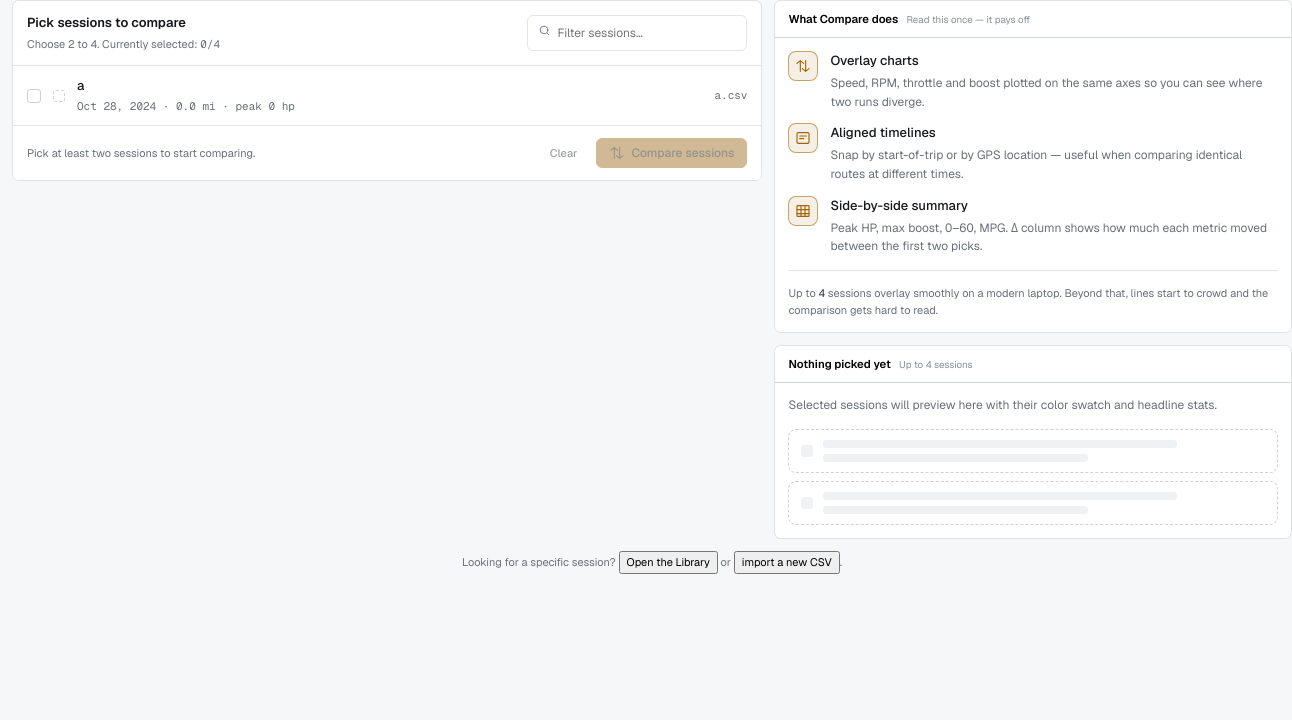
pages/compare-logs/pick-stage › Clear empties the selection
The image size is (1292, 720).
Click the button with test id "picker-row-s_1".
click(117, 106)  # box [13,66,761,125]
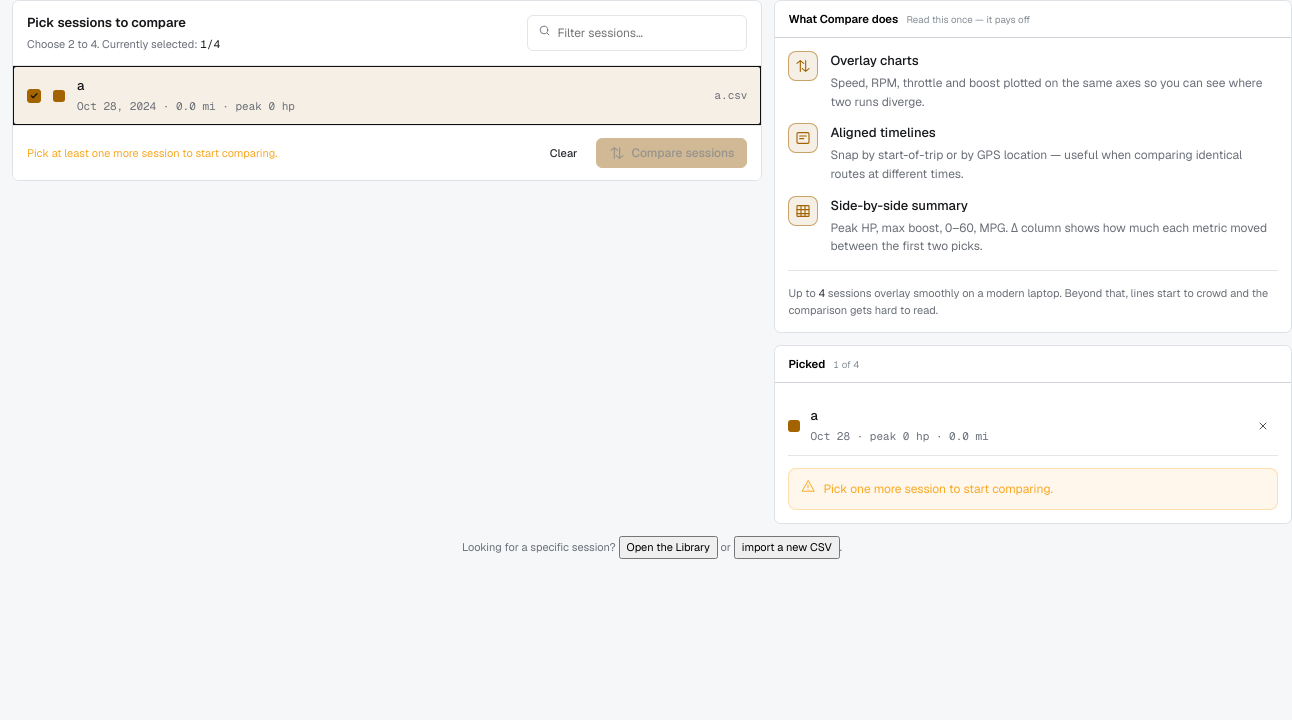
Click the button with test id "picker-clear".
click(564, 153)  # box [541,140,586,166]
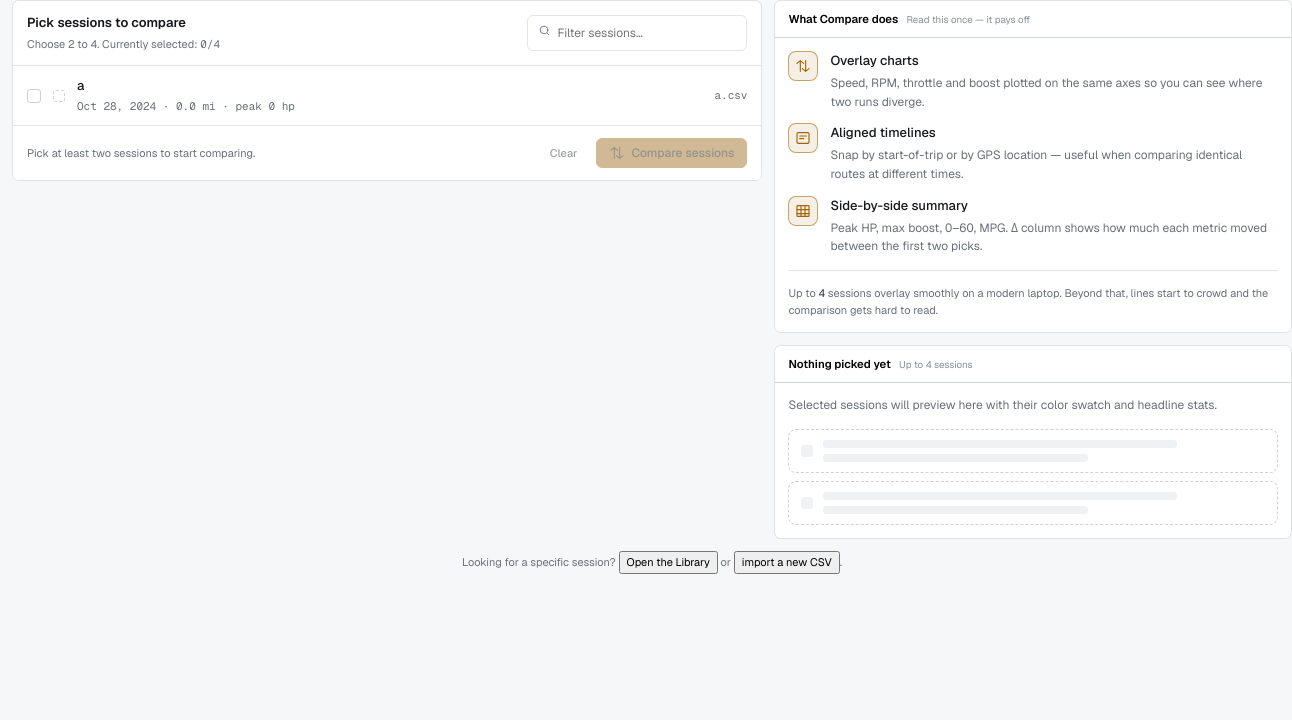
Expected: the text with test id "picker-counter" reads "0/4", [200,37,220,51]
